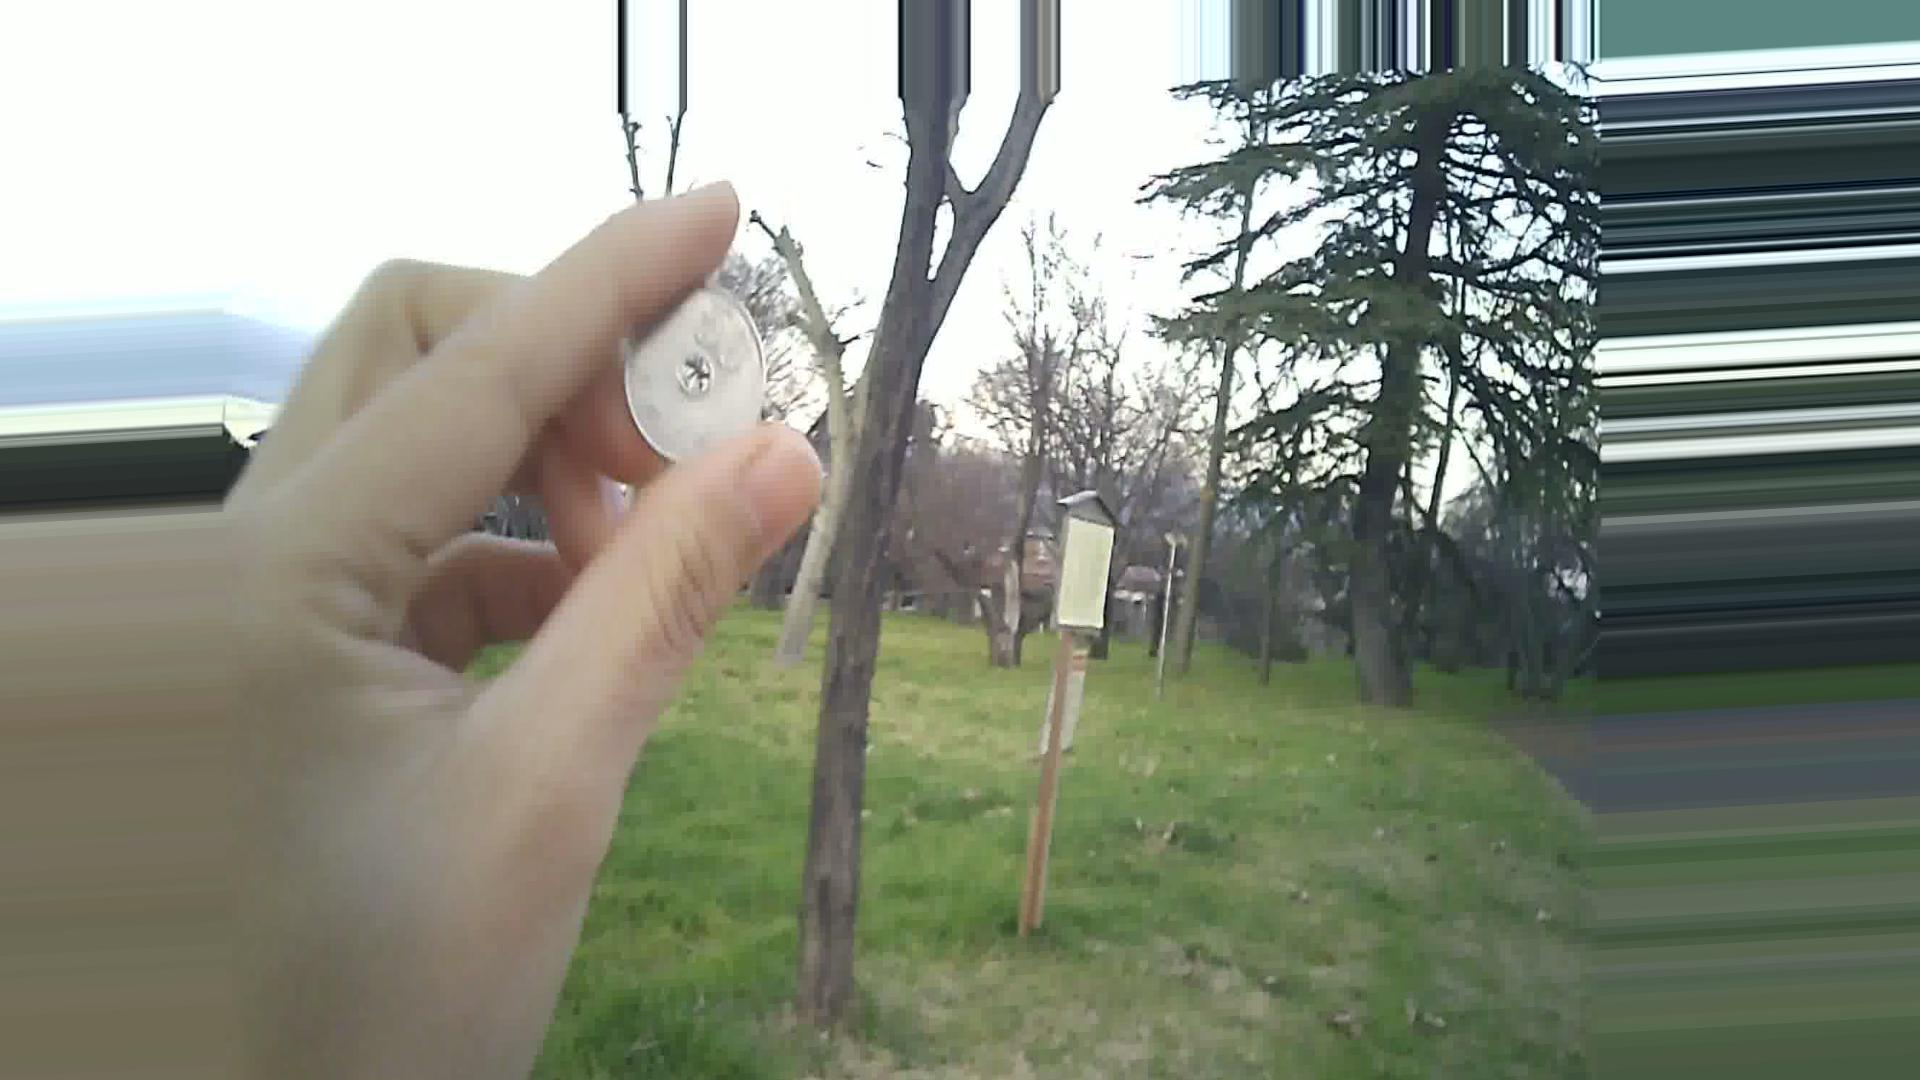50 Yen: (607, 266, 773, 463)
